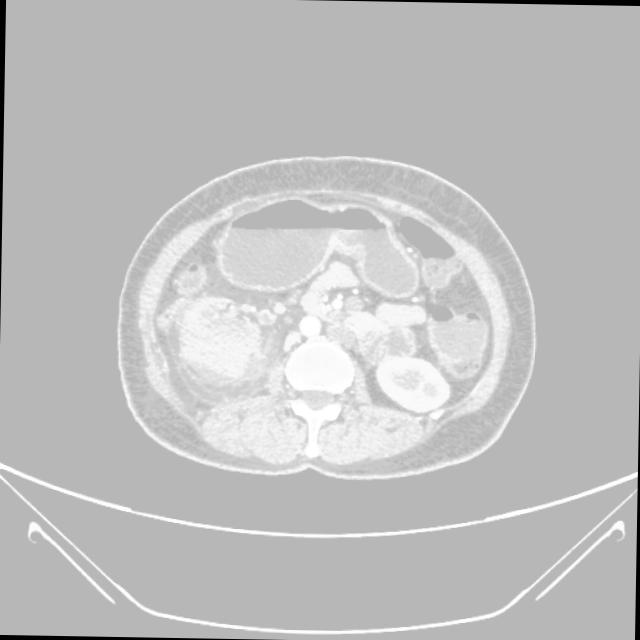TUMOR: (177, 205, 478, 390)
